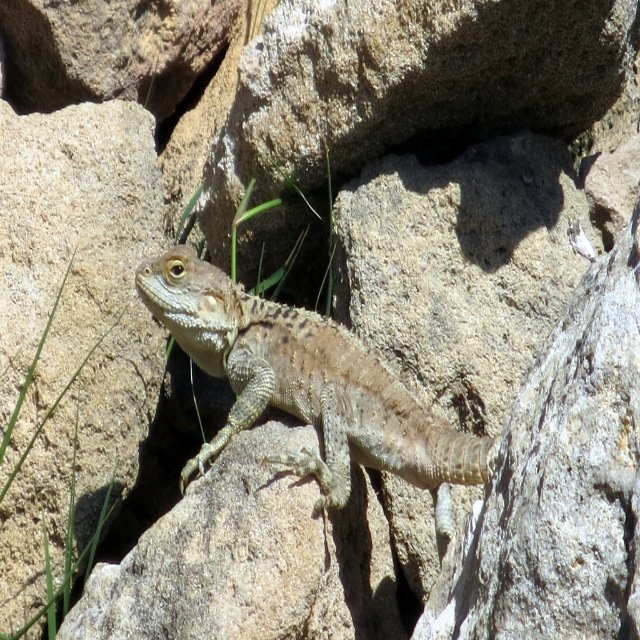Lizard: (136, 232, 508, 590)
